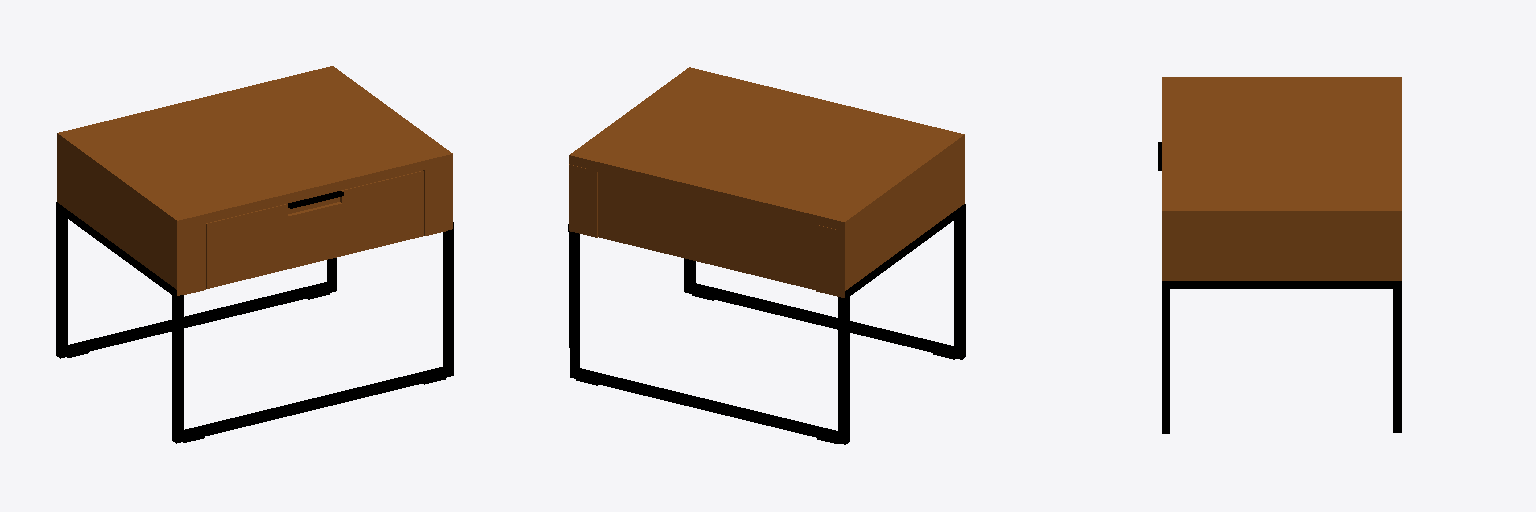
File: desk03.obj
The picture shows the model from 3 angles: view 1: azimuth 30°, elevation 25°; view 2: azimuth 150°, elevation 25°; view 3: azimuth 270°, elevation 25°; orthographic projection.
Visible parts, largest first — view 1: Object.9, Object.12, Object.4, Object.10, Object.8; view 2: Object.9, Object.11, Object.4, Object.10, Object.8; view 3: Object.9, Object.8, Object.4.
Part boxes in pixels (x1,y1,x2,y2): Object.9: (57, 66, 452, 229); Object.12: (206, 171, 423, 288); Object.4: (56, 202, 453, 443); Object.10: (57, 143, 205, 295); Object.8: (423, 163, 452, 235); Object.9: (569, 67, 964, 231); Object.11: (598, 172, 815, 289); Object.4: (568, 204, 965, 444); Object.10: (816, 144, 964, 297); Object.8: (569, 164, 597, 237); Object.9: (1162, 77, 1401, 220); Object.8: (1162, 221, 1401, 280); Object.4: (1162, 281, 1401, 433).
Size of the model in its own units: 128 by 98.4 by 97.4.